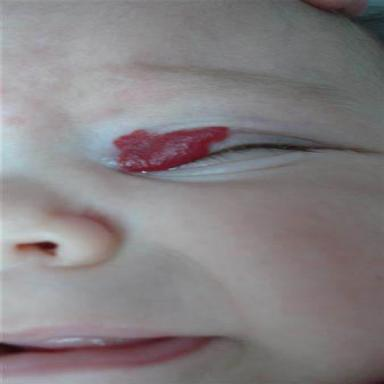Hemangiome: (113, 126, 228, 172)
